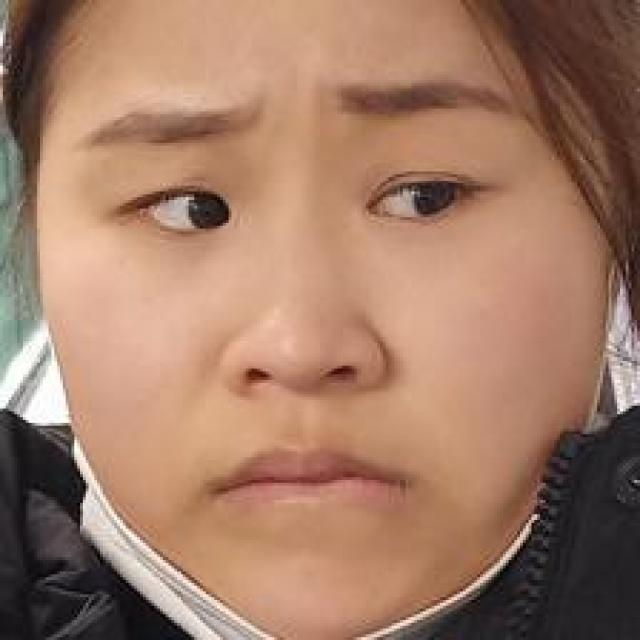fear: (65, 57, 546, 573)
